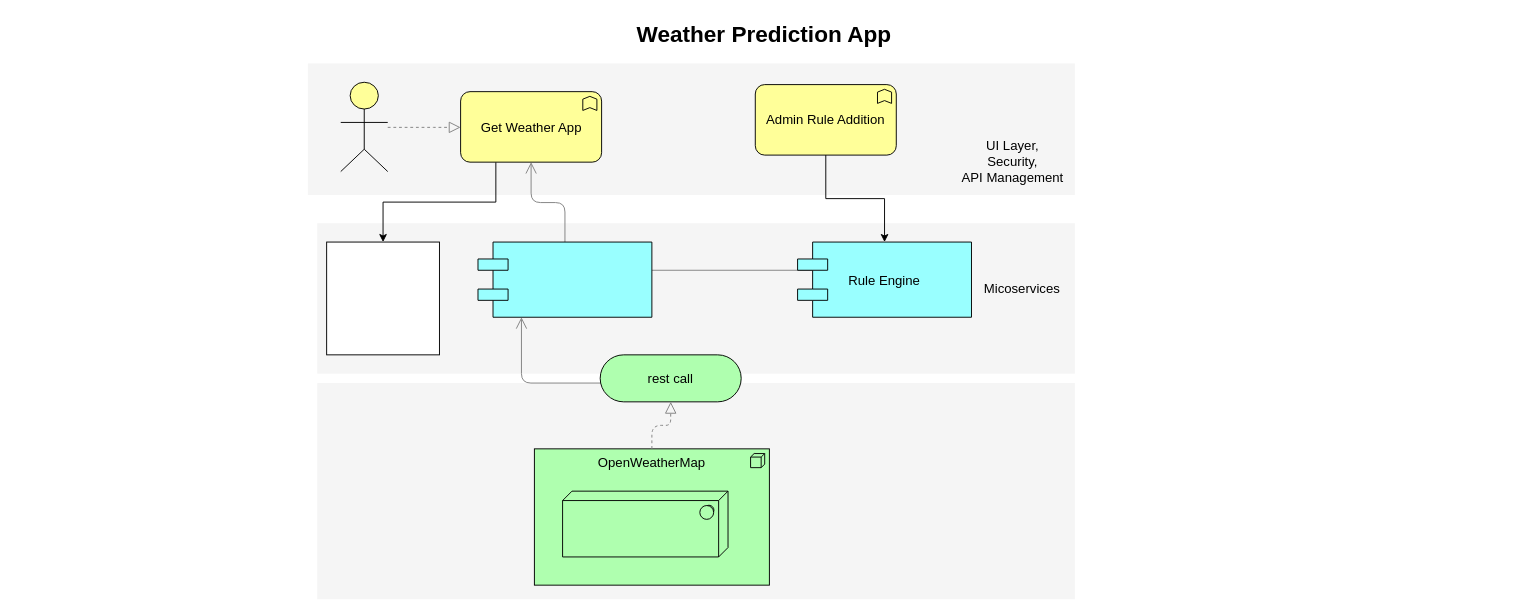
Some shapes in this 1527 by 615 pixel diagram are drawn without their labels. Each missing label, with the centre of its shape:
"Authorization Server (Keycloak)" goes at point 382,298.
"Core Weather System" goes at point 645,523.
"Weather Module" goes at point 564,279.
